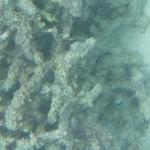dead: (1, 1, 143, 145)
